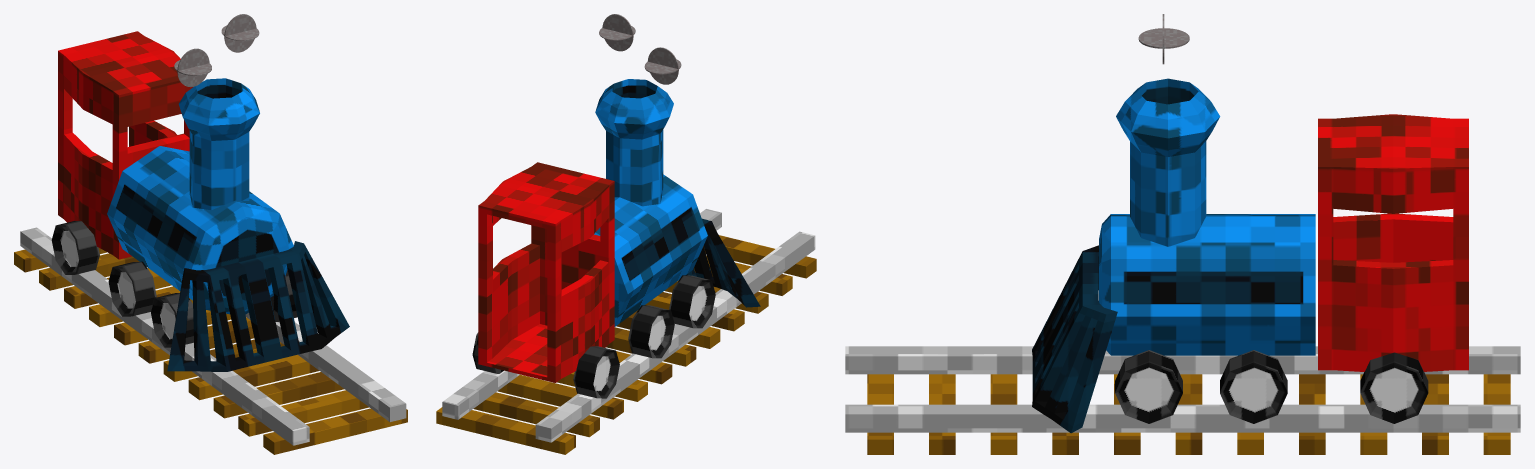
File: train.fbx
The picture shows the model from 3 angles, left to right: view 1: azimuth 30°, elevation 25°; view 2: azimuth 150°, elevation 25°; view 3: azimuth 270°, elevation 25°; orthographic projection. The views are drawn at different scales.
Parts seen in each view (by area): view 1: cabin, steamtank, pain, woodrail, steelrail, chimney, MiddleWheel, BackWheel, FrontWheel, Circle.002, Circle; view 2: cabin, woodrail, steamtank, steelrail, chimney, pain, BackWheel, MiddleWheel, FrontWheel, Circle.002, Circle; view 3: cabin, steamtank, steelrail, woodrail, chimney, pain, MiddleWheel, FrontWheel, BackWheel, Circle.003.
Part boxes in pixels (box(x1,y1,x2,y2)): cabin: box(58, 31, 192, 259); steamtank: box(107, 146, 293, 314); pain: box(167, 241, 349, 371); woodrail: box(14, 248, 407, 454); steelrail: box(20, 227, 406, 445); chimney: box(178, 78, 259, 210); MiddleWheel: box(108, 261, 156, 316); BackWheel: box(51, 221, 99, 274); FrontWheel: box(151, 270, 297, 347); Circle.002: box(224, 14, 256, 52); Circle: box(177, 48, 209, 87); cabin: box(478, 162, 614, 382); woodrail: box(436, 235, 816, 454); steamtank: box(594, 174, 707, 326); steelrail: box(442, 209, 815, 442); chimney: box(595, 79, 673, 206); pain: box(686, 218, 760, 307); BackWheel: box(472, 332, 619, 398); MiddleWheel: box(628, 305, 674, 358); FrontWheel: box(669, 275, 715, 328); Circle.002: box(602, 14, 633, 51); Circle: box(647, 47, 678, 84); cabin: box(1318, 114, 1468, 371); steamtank: box(1099, 214, 1315, 355); steelrail: box(845, 346, 1520, 432); woodrail: box(867, 374, 1510, 454); chimney: box(1116, 78, 1220, 246); pain: box(1032, 245, 1117, 433); MiddleWheel: box(1220, 350, 1287, 423); FrontWheel: box(1115, 350, 1182, 423); BackWheel: box(1360, 352, 1428, 423); Circle.003: box(1138, 28, 1189, 47).
Bounding box in the file's own units: 150 × 261 × 389.
8 materials, 8 textured.
